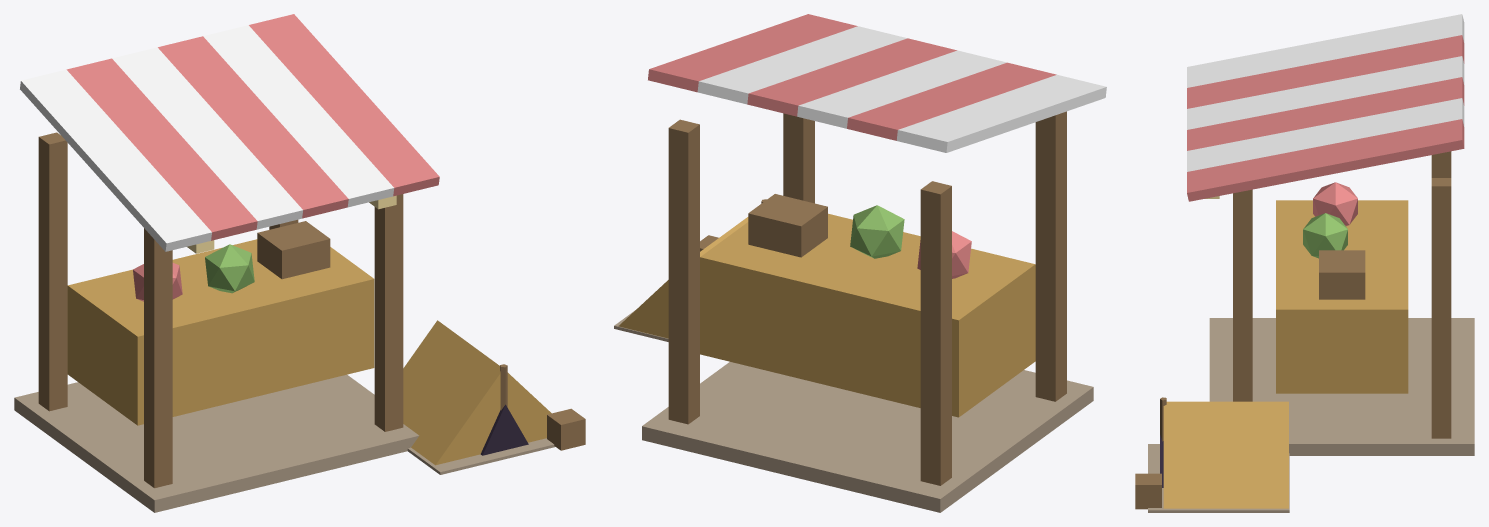
The model's file is sand-landmark-s2b.glb.
The picture shows the model from 3 angles, left to right: view 1: azimuth 30°, elevation 25°; view 2: azimuth 150°, elevation 25°; view 3: azimuth 270°, elevation 25°; orthographic projection. The views are drawn at different scales.
Parts seen in each view (by area): view 1: sand-landmark-s2b; view 2: sand-landmark-s2b; view 3: sand-landmark-s2b.
Part boxes in pixels (x1,y1,x2,y2): sand-landmark-s2b: (14, 14, 585, 512); sand-landmark-s2b: (614, 14, 1106, 512); sand-landmark-s2b: (1135, 14, 1474, 512).
Bounding box in the file's own units: 1.31 × 1.05 × 1.02.
